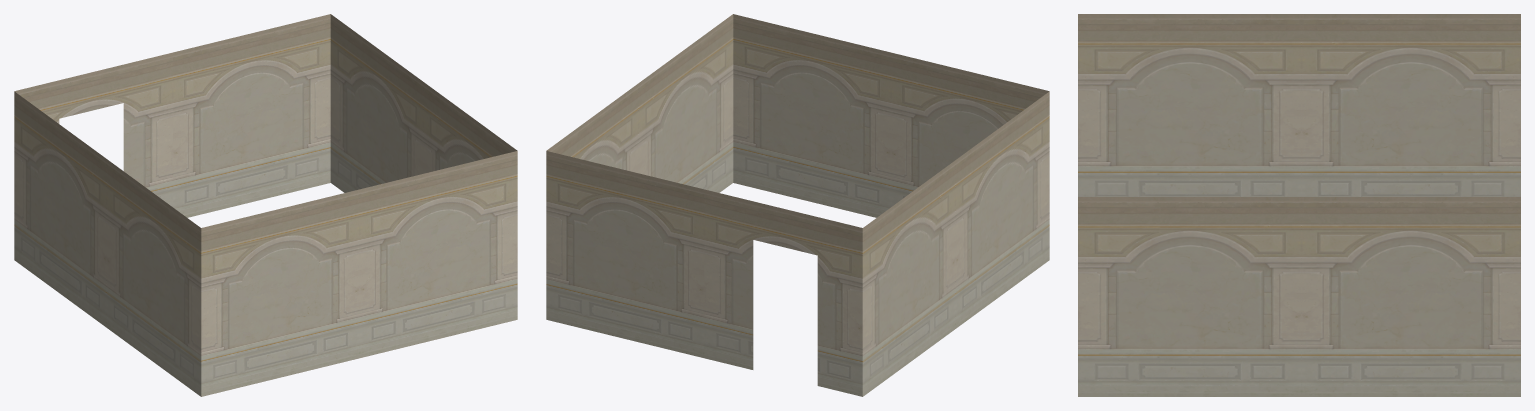
The model's file is Homeworld_Interior_Fd_Room_H_Filling_01_Vo.fbx.
The picture shows the model from 3 angles, left to right: view 1: azimuth 30°, elevation 25°; view 2: azimuth 150°, elevation 25°; view 3: azimuth 270°, elevation 25°; orthographic projection. The views are drawn at different scales.
Visible parts, largest first — view 1: Homeworld_Interior_Fd_Room_H_Filling_01_Vo; view 2: Homeworld_Interior_Fd_Room_H_Filling_01_Vo; view 3: Homeworld_Interior_Fd_Room_H_Filling_01_Vo.
Part boxes in pixels (x1,y1,x2,y2): Homeworld_Interior_Fd_Room_H_Filling_01_Vo: (14,14,517,396); Homeworld_Interior_Fd_Room_H_Filling_01_Vo: (546,14,1049,396); Homeworld_Interior_Fd_Room_H_Filling_01_Vo: (1078,14,1520,396).
Size of the model in its own units: 9.77 by 4.98 by 9.99.
